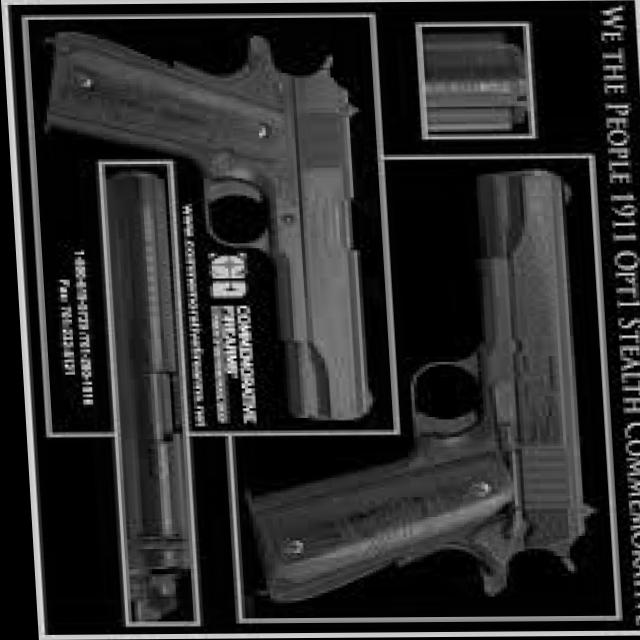handgun: (216, 162, 610, 620), (26, 22, 387, 432), (96, 161, 189, 623)
